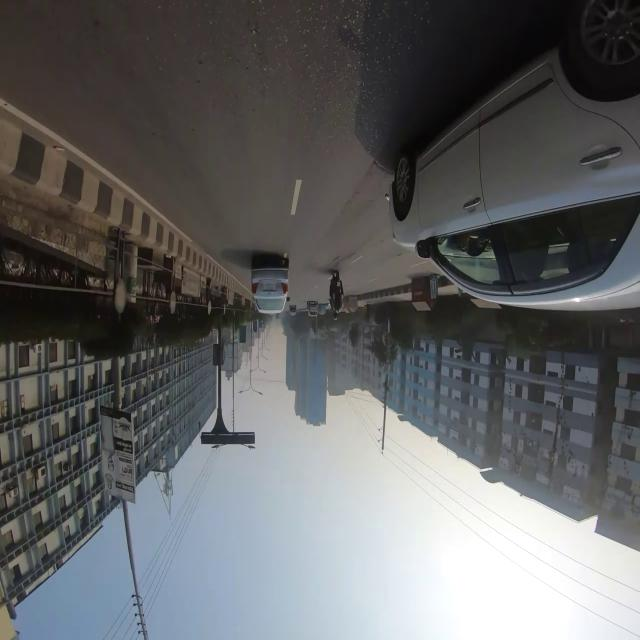silver: (249, 254, 289, 318)
